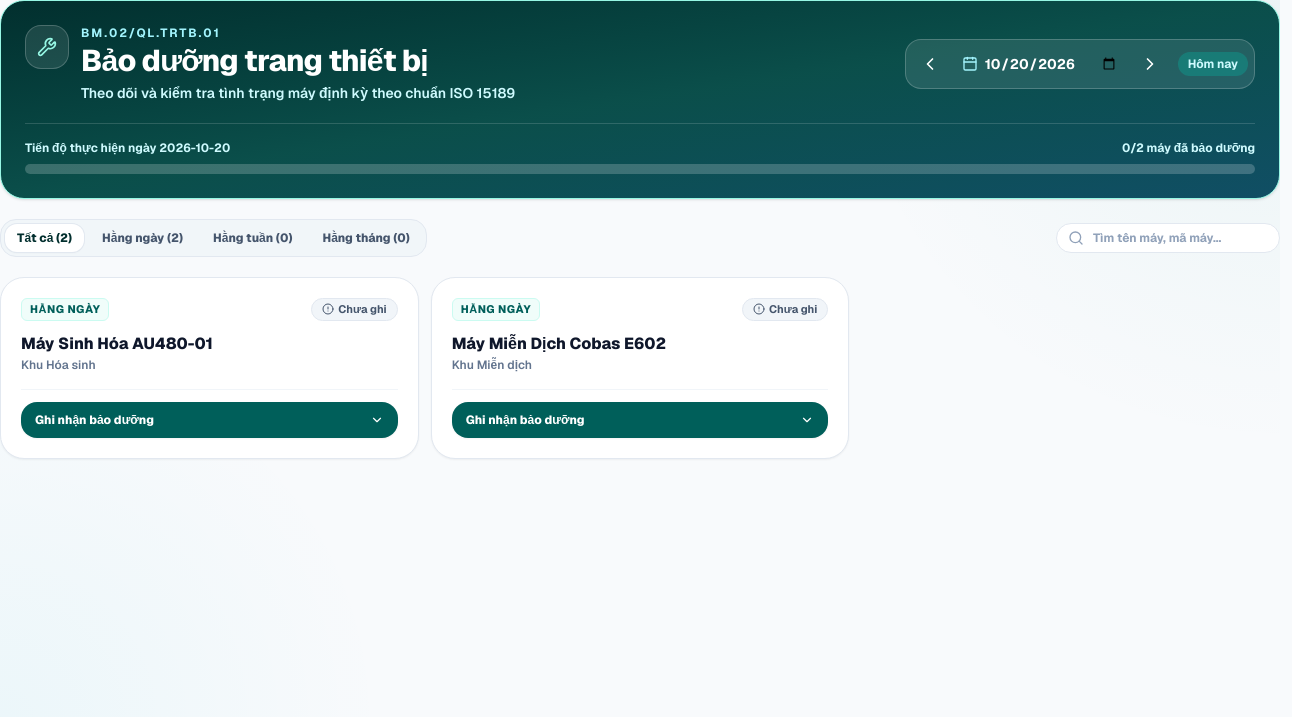
Test case: TASK 02A.1: Inline Editing & Live Updates for Maintenance (/maintenance) › 1. Expands inline form on clicking 'Ghi nhận bảo dưỡng' and collapses on toggle; has NO external link button
Check: the field labelled "Ngày giờ thực hiện" is not shown
# Click "Ghi nhận bảo dưỡng" for the first machine
Click the button "Ghi nhận bảo dưỡng" below "Khu Hóa sinh".
click(94, 420)  # box [21,402,398,438]
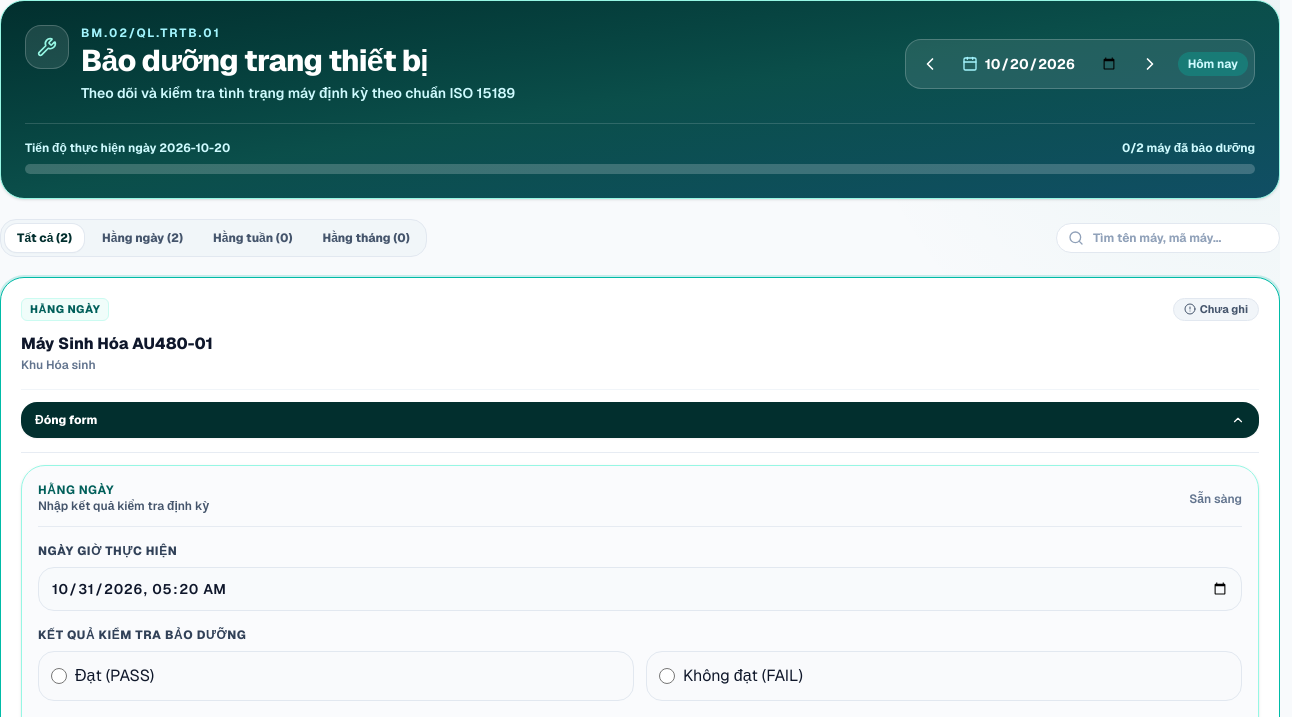
Check: the field labelled "Ngày giờ thực hiện" is shown, box [38,566,1242,610]
Check: the button "Đóng form" is shown
# Click "Đóng form" to collapse
Click the button "Đóng form".
click(66, 420)  # box [21,402,1259,438]
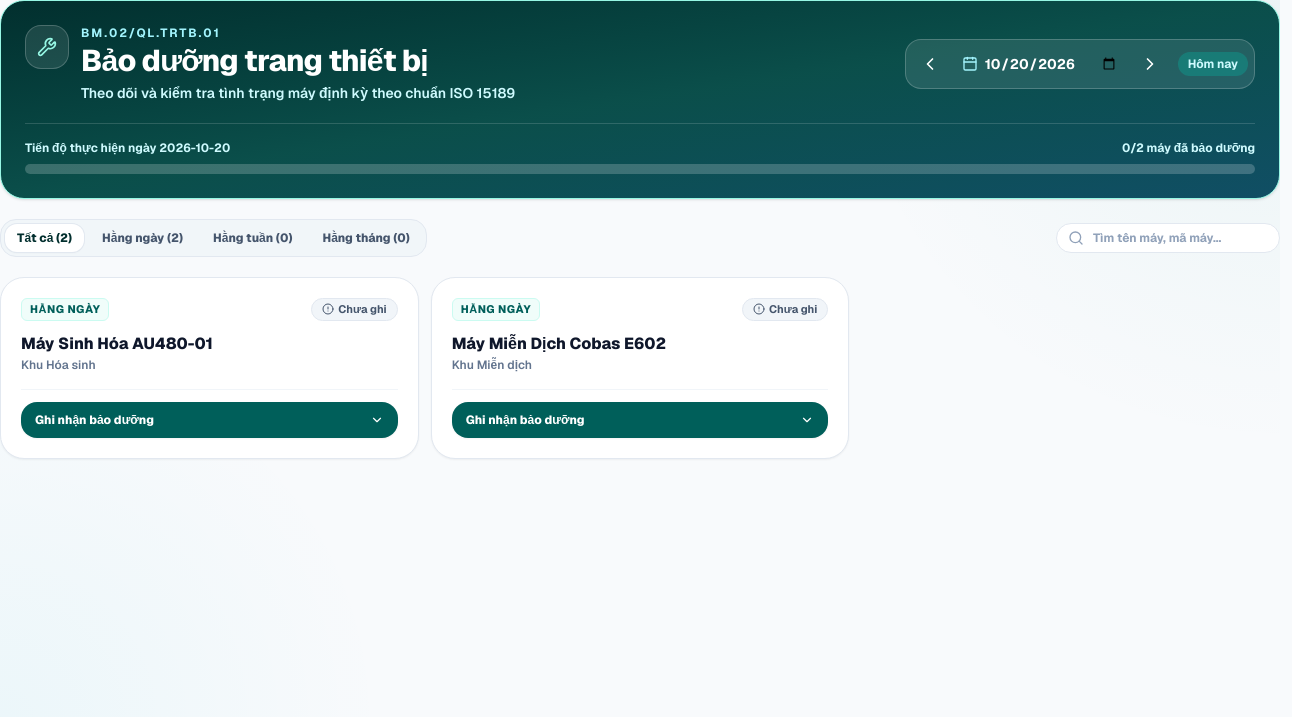
Check: the label labelled "Ngày giờ thực hiện" is gone
